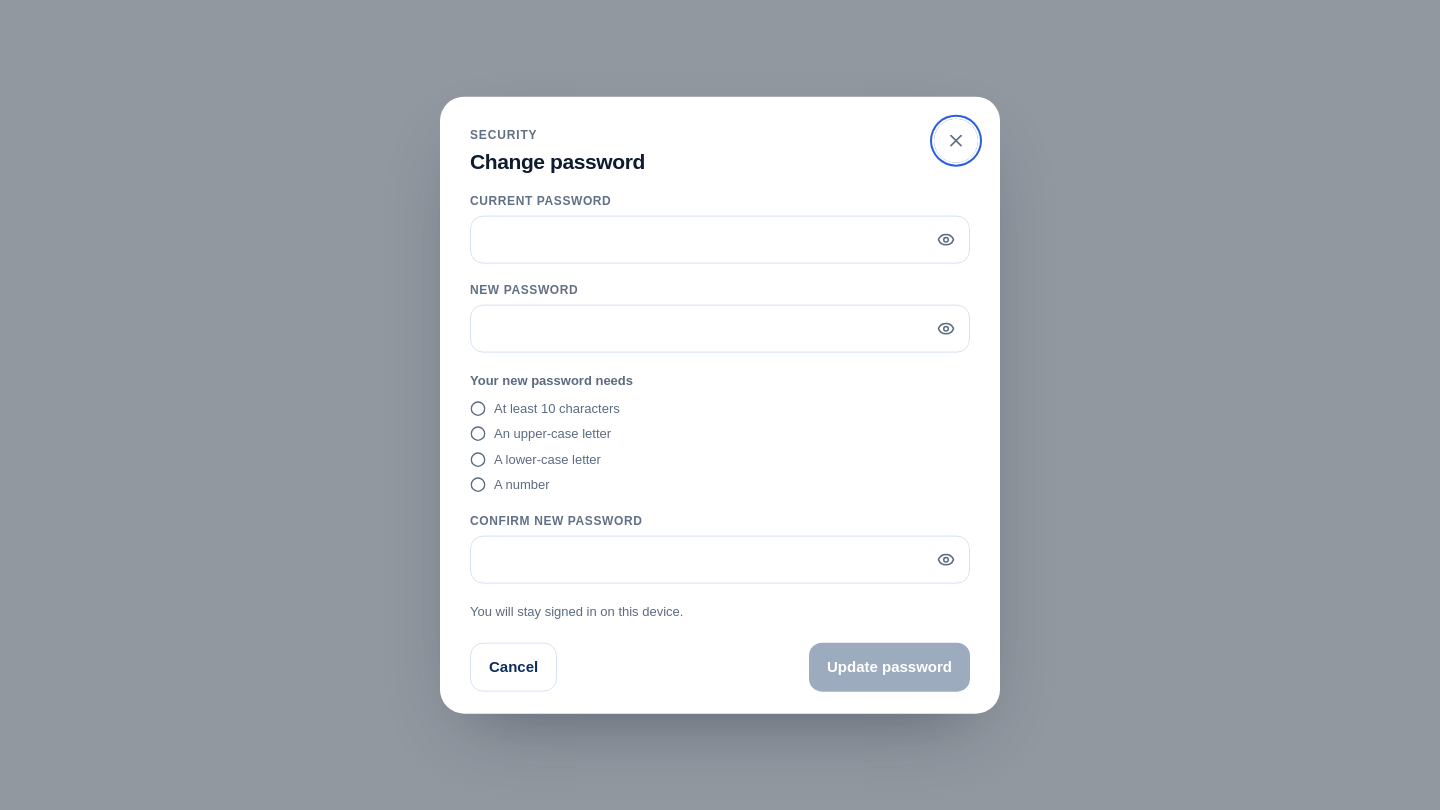
it: Change password sheet › lists the API's rules and sends all three fields once they pass
Expected: the list item "At least 10 characters" is shown, [469,400,620,425]
Click the button named "Show new password". click: (946, 329)
box: [924,307,968,351]
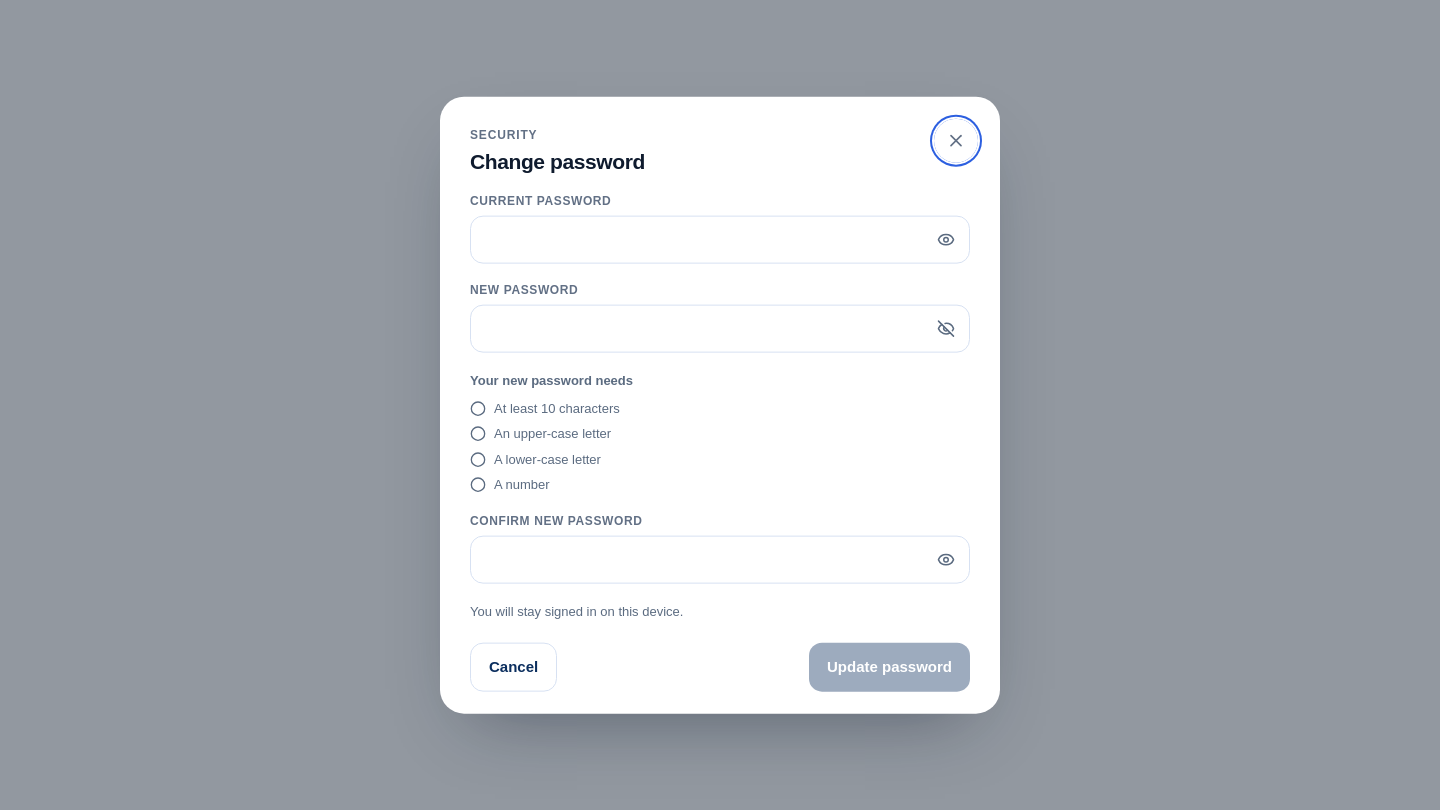
Type "OldPass12" into the password field labelled "Current password". click: (720, 240)
box: [470,216,970,264]
Type "Short1" into the field labelled "New password". click: (720, 329)
box: [470,305,970,353]
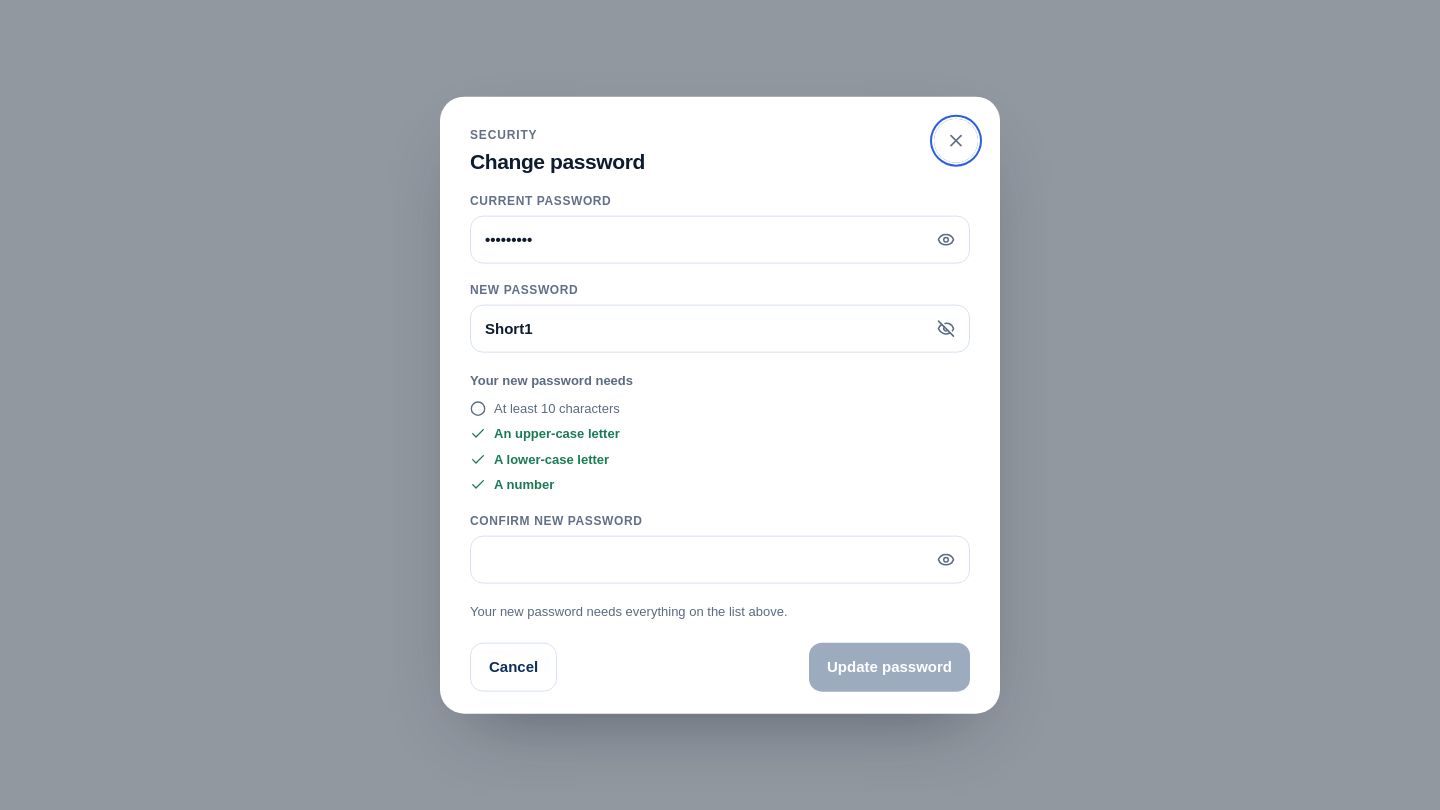
Expected: the button "Update password" is disabled, [809,643,970,691]
Replace the text in the field labelled "New password" with "Newpassword1". click: (720, 329)
box: [470,305,970,353]
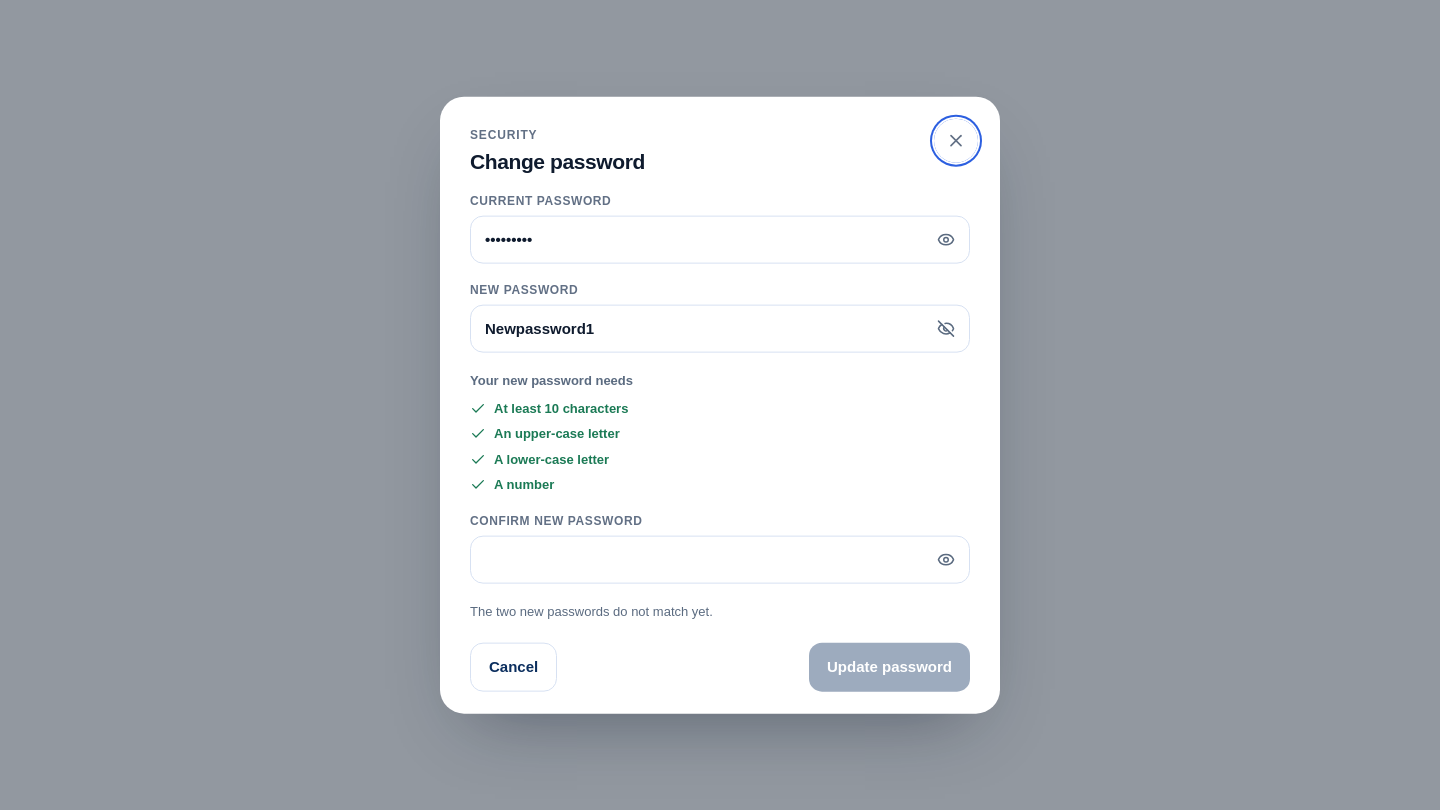
Type "Newpassword" into the password field labelled "Confirm new password". click: (720, 559)
box: [470,535,970,583]
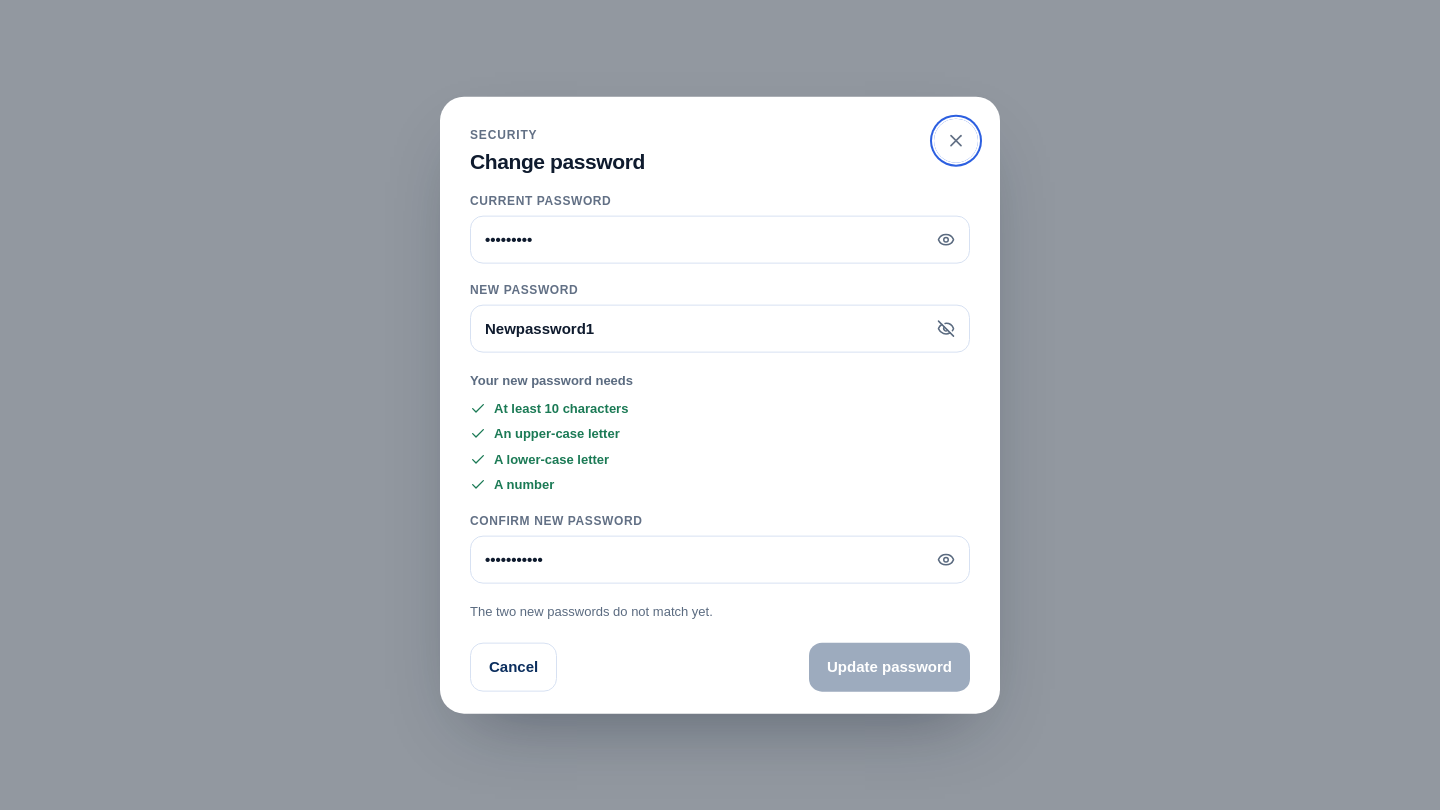
Expected: the button "Update password" is disabled, [809,643,970,691]
Result: the text "The two new passwords do not match yet." is shown at [470,603,713,618]
Type "Newpassword1" into the password field labelled "Confirm new password". click: (720, 559)
box: [470,535,970,583]
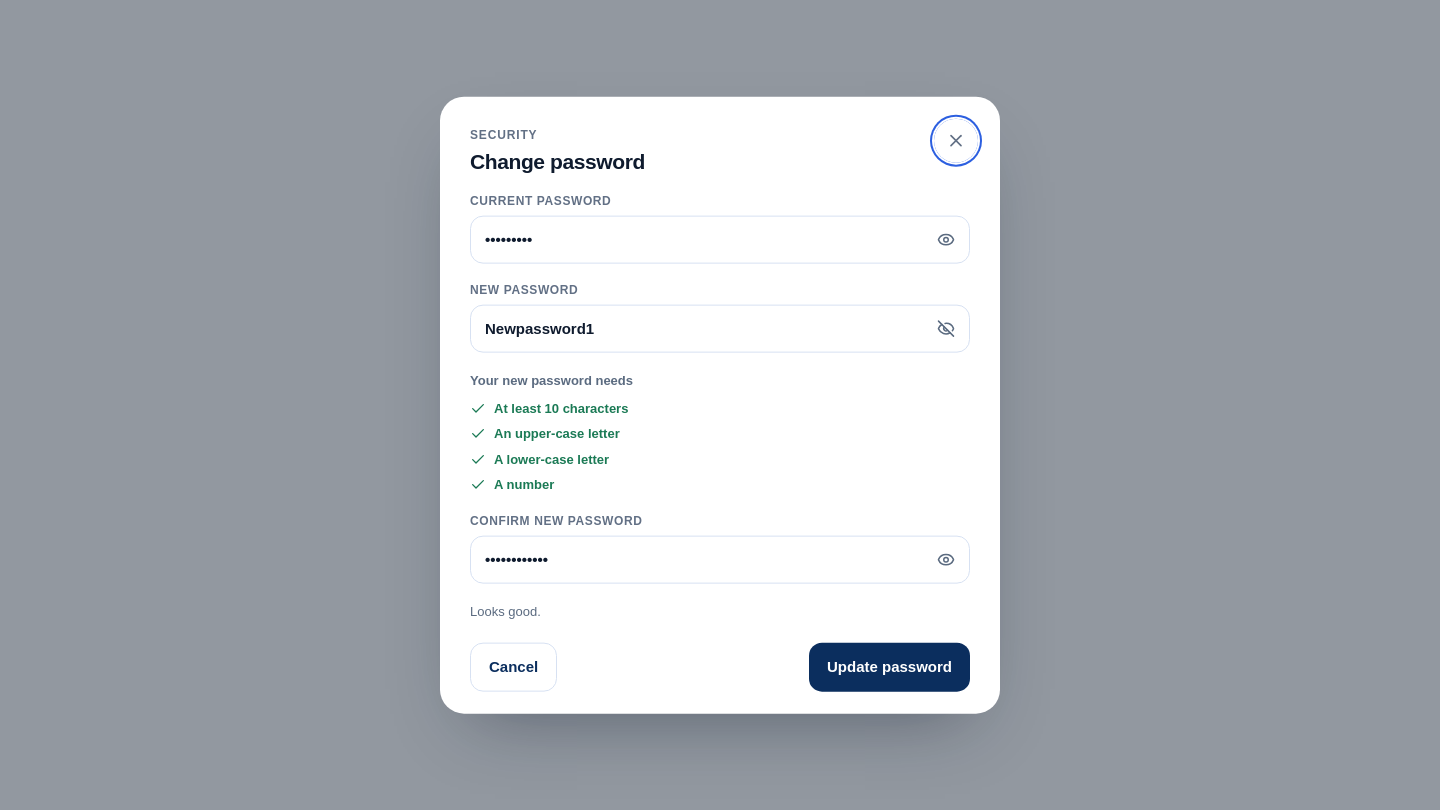
Result: the button "Update password" is enabled
Click the button "Update password". click: (890, 667)
box: [809,643,970,691]
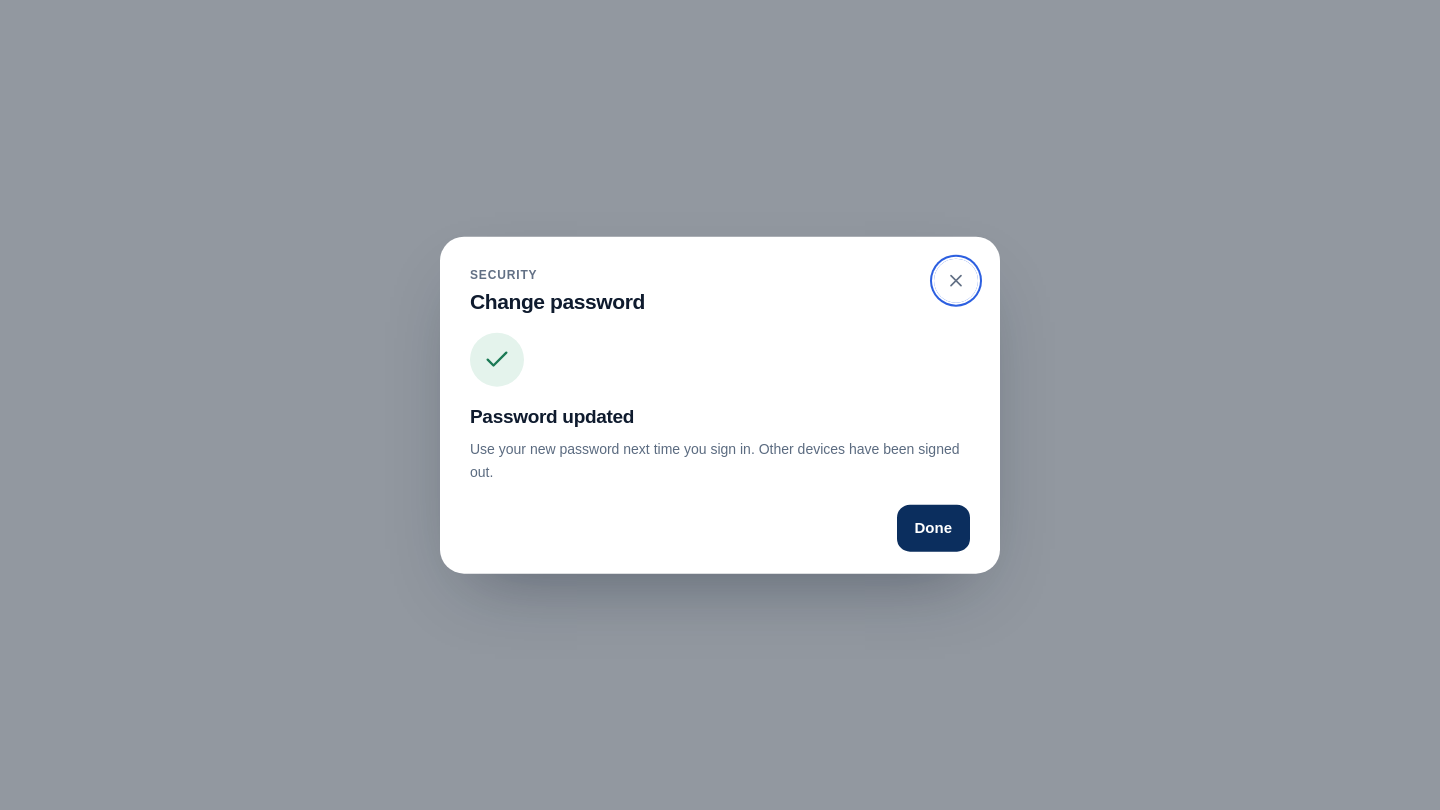
Result: the text "Password updated" is shown at [470,406,634,427]
Result: the text "Use your new password next time you sign in. Other devices have been signed out." is shown at [470,437,970,483]
